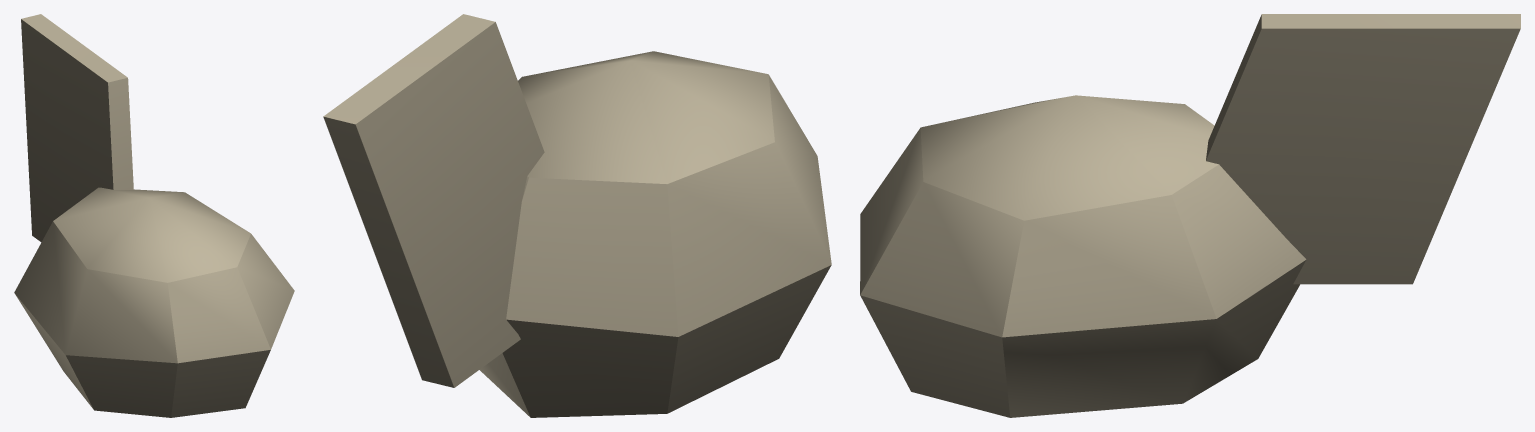
File: ph_tool_washcloth.glb
3 renders of one model, left to right at view 1: azimuth 30°, elevation 25°; view 2: azimuth 150°, elevation 25°; view 3: azimuth 270°, elevation 25°, orthographic. The views are drawn at different scales.
Visible parts, largest first — view 1: ph_tool_washcloth; view 2: ph_tool_washcloth; view 3: ph_tool_washcloth.
Boxes of the visible parts, x1,y1,x2,y2 form: ph_tool_washcloth: [14, 14, 294, 417]; ph_tool_washcloth: [323, 14, 831, 417]; ph_tool_washcloth: [860, 14, 1520, 417].
Bounding box in the file's own units: 0.0896 × 0.103 × 0.153.
